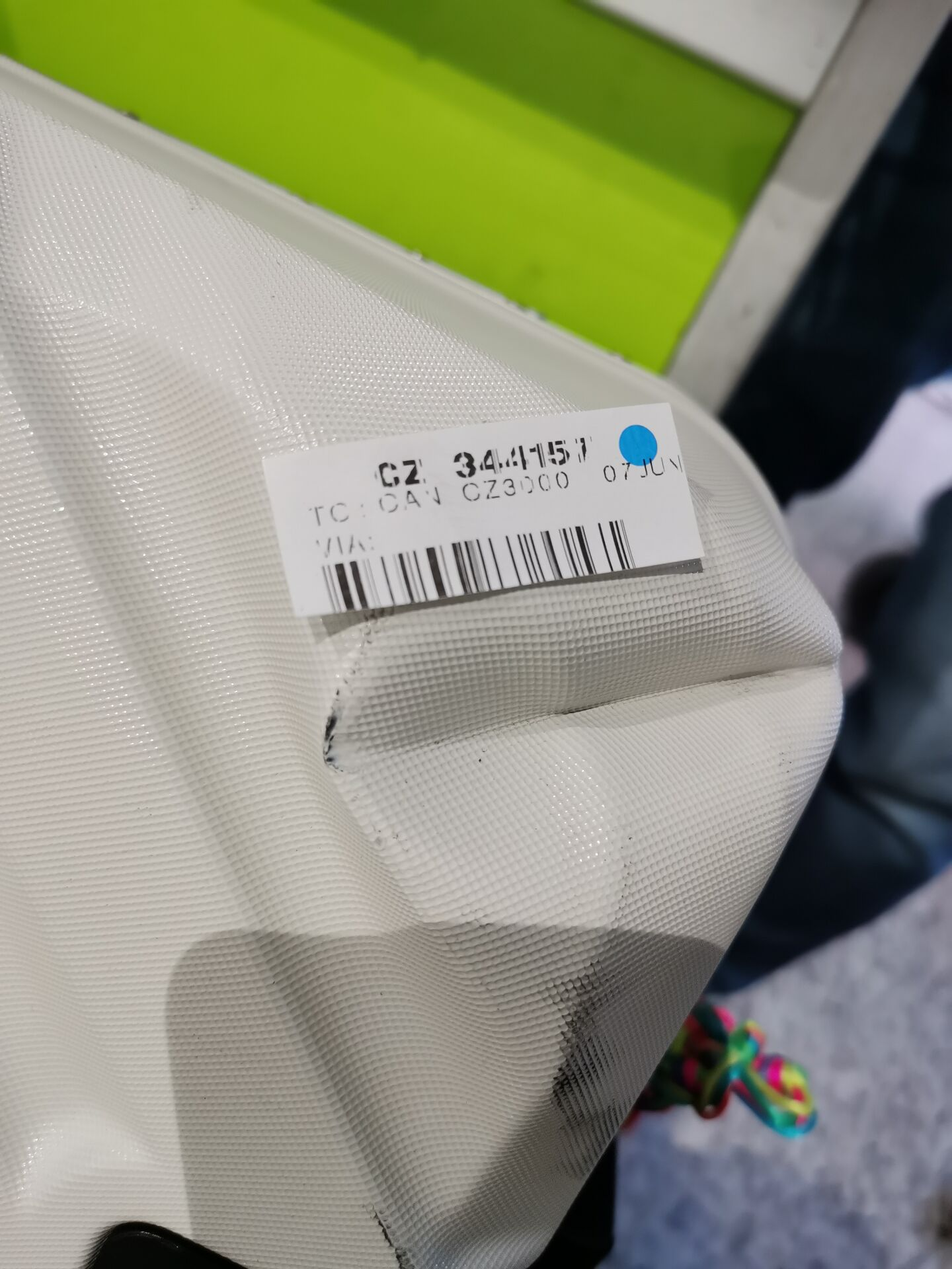rupture: (330, 517, 844, 858)
